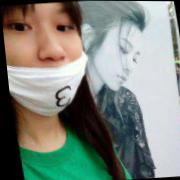NONE: (97, 32, 149, 94)
WRONG: (1, 1, 97, 120)
